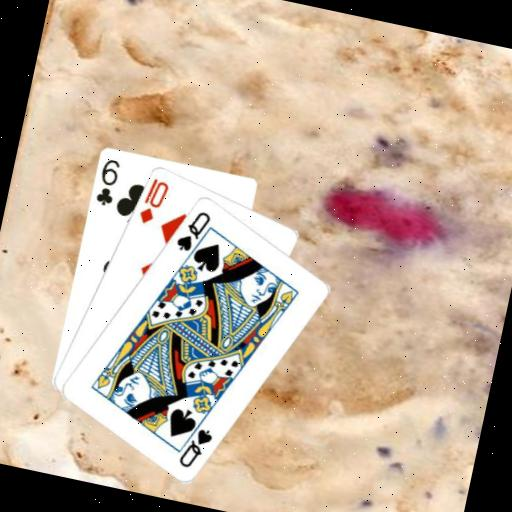10D: (134, 172, 172, 228)
6C: (91, 154, 123, 208)
QS: (171, 203, 214, 256), (174, 421, 215, 473)
